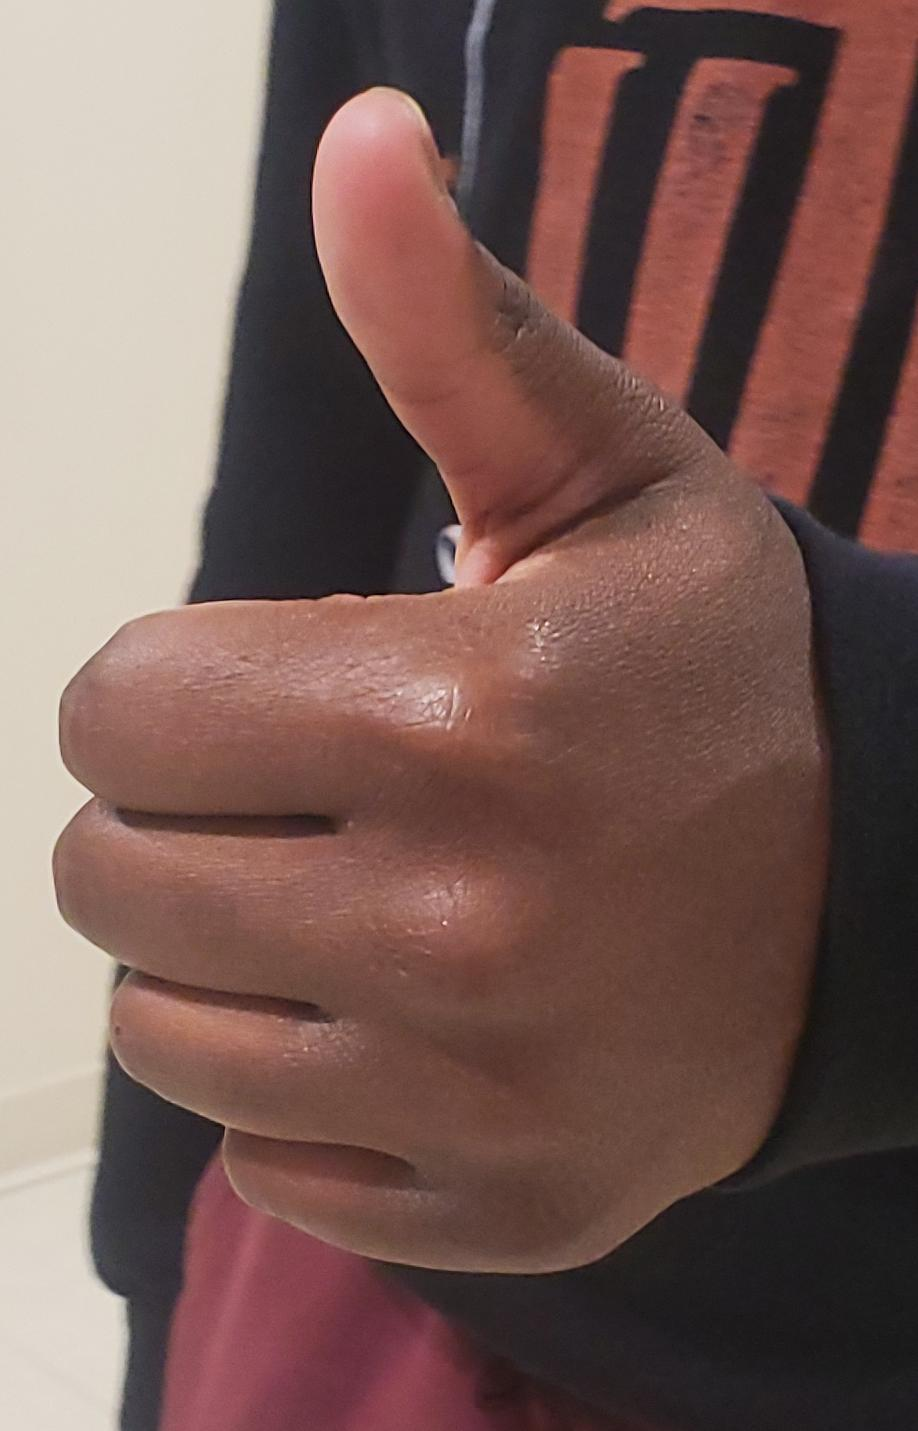up: (0, 1, 918, 1431)
